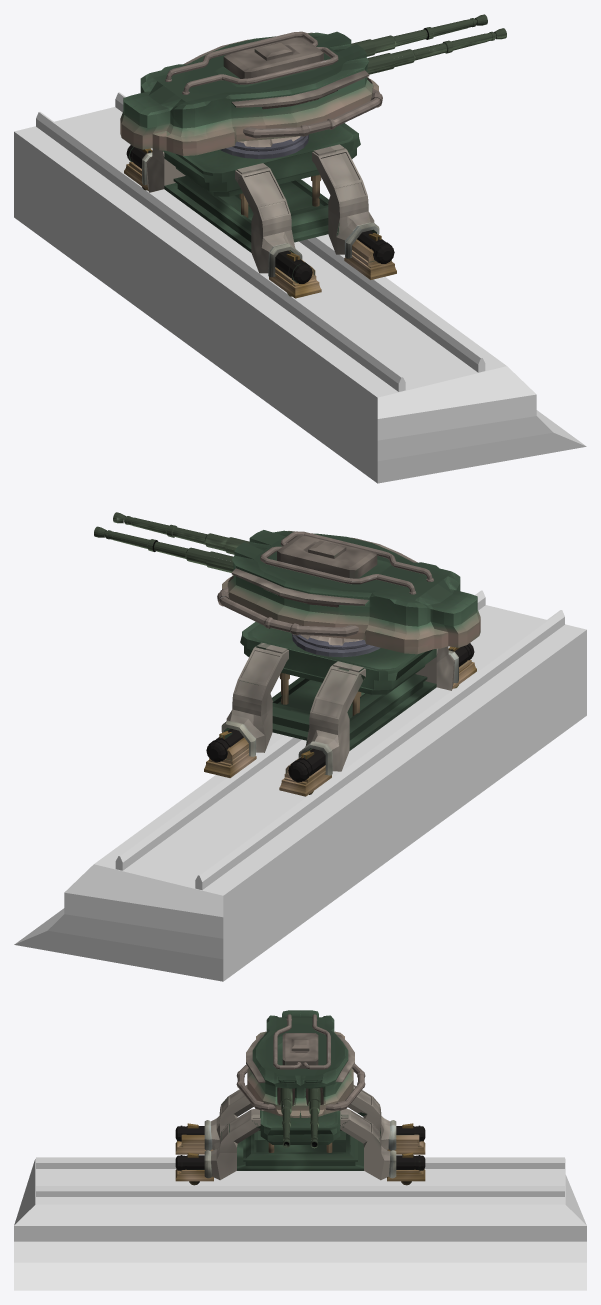
Rendered from Rails.fbx.
3 views of the same model, one above another, from view 1: azimuth 30°, elevation 25°; view 2: azimuth 150°, elevation 25°; view 3: azimuth 270°, elevation 25° (orthographic). The views are drawn at different scales.
Visible parts, largest first — view 1: Cube.001, Cube, Cylinder, Cylinder.007, Cylinder.001, Cylinder.002; view 2: Cube.001, Cube, Cylinder, Cylinder.007, Cylinder.002, Cylinder.001; view 3: Cube.001, Cube, Cylinder, Cylinder.007, Cylinder.002, Cylinder.001.
Part boxes in pixels (x1,y1,x2,y2): Cube.001: [14, 92, 586, 483]; Cube: [124, 123, 396, 298]; Cylinder: [120, 31, 378, 155]; Cylinder.007: [165, 31, 382, 138]; Cylinder.001: [367, 28, 506, 74]; Cylinder.002: [351, 14, 487, 56]; Cube.001: [14, 590, 586, 981]; Cube: [204, 621, 476, 796]; Cylinder: [222, 530, 480, 654]; Cylinder.007: [217, 531, 433, 636]; Cylinder.002: [94, 526, 233, 572]; Cylinder.001: [113, 512, 249, 554]; Cube.001: [14, 1157, 586, 1290]; Cube: [175, 1085, 425, 1185]; Cylinder: [246, 1010, 354, 1117]; Cylinder.007: [236, 1014, 365, 1110]; Cylinder.002: [308, 1088, 320, 1148]; Cylinder.001: [280, 1088, 292, 1147].
Size of the model in its own units: 1815 by 1337 by 3361.
